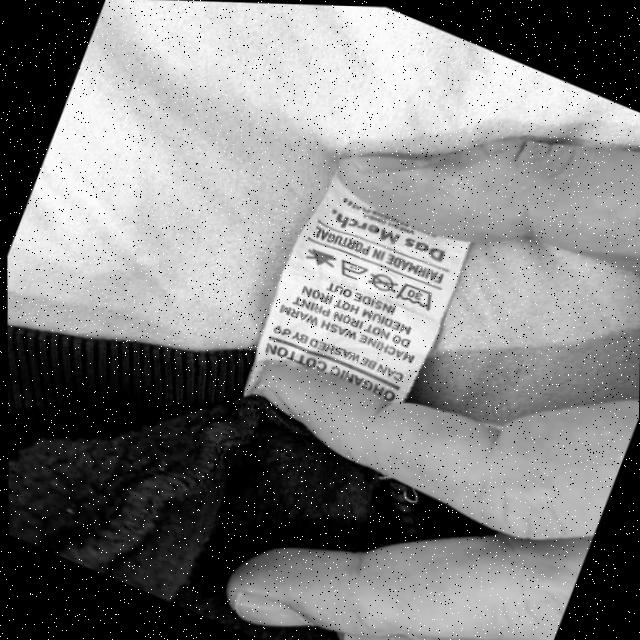ER_iron_medium_temp: (339, 258, 368, 285)
ER_no_bleach: (308, 247, 338, 269)
ER_no_dry_clean: (369, 270, 399, 295)
ER_wash_30: (398, 281, 431, 313)
